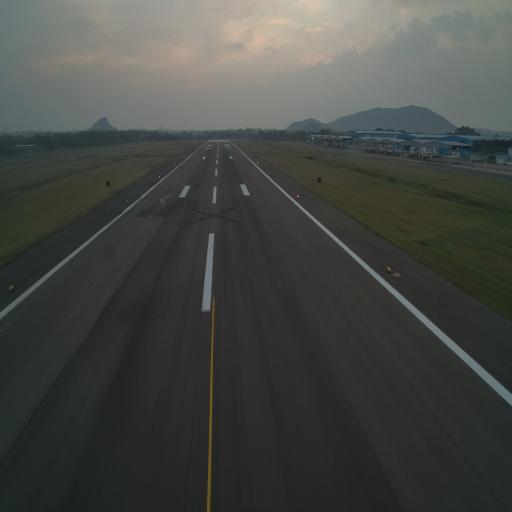on: (385, 262, 392, 276), (9, 283, 15, 291), (296, 192, 300, 201), (125, 198, 130, 204)
